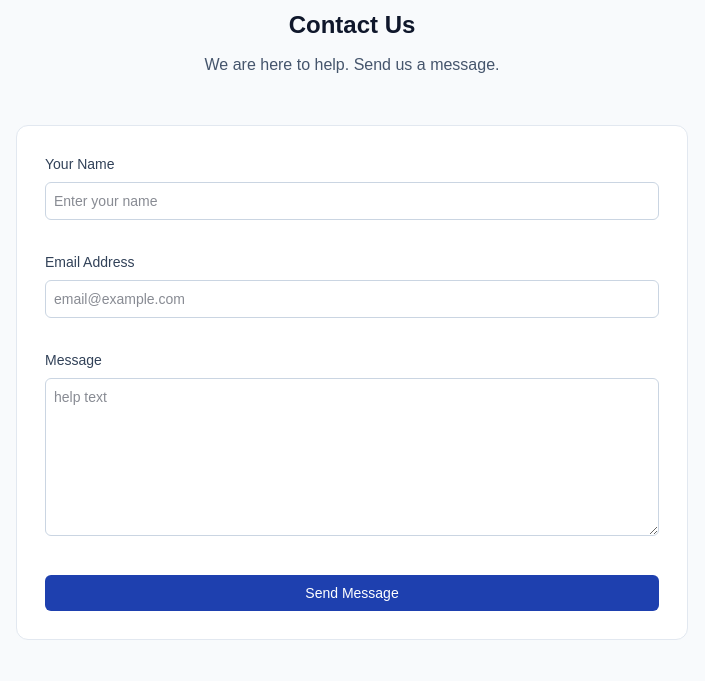
Test: contact page- tests › invalid form msg error- test
The width and height of the screenshot is (705, 681).
Type "Sakshi" into the field with placeholder "Enter your name" at [352, 201], box [45, 182, 659, 220]
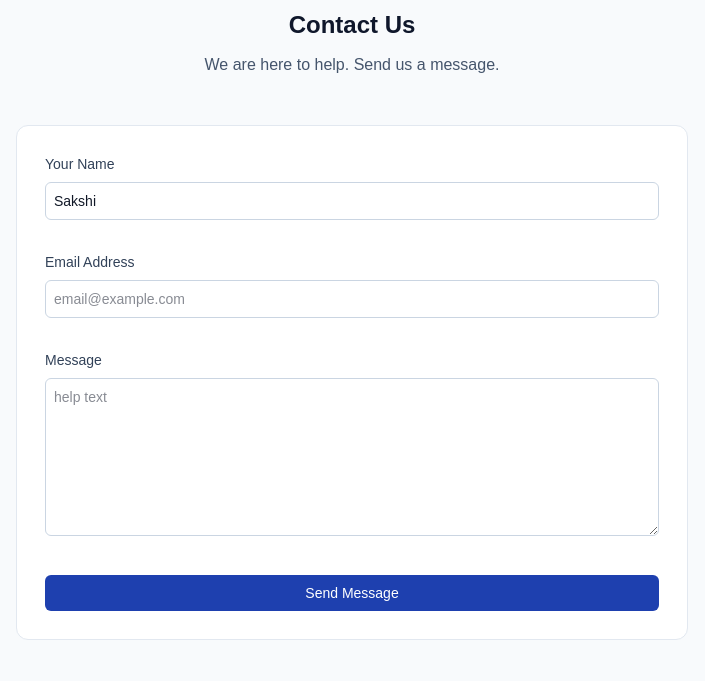
Type "abc12@gmail.com" into the field with placeholder "email@example.com" at [352, 299], box [45, 280, 659, 318]
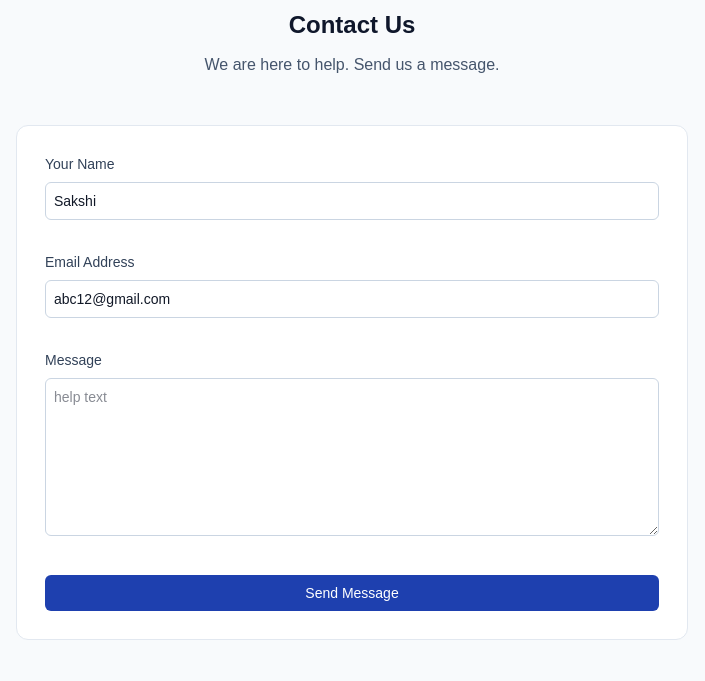
Type "short msg" into the text box with placeholder "help text" at [352, 457], box [45, 378, 659, 536]
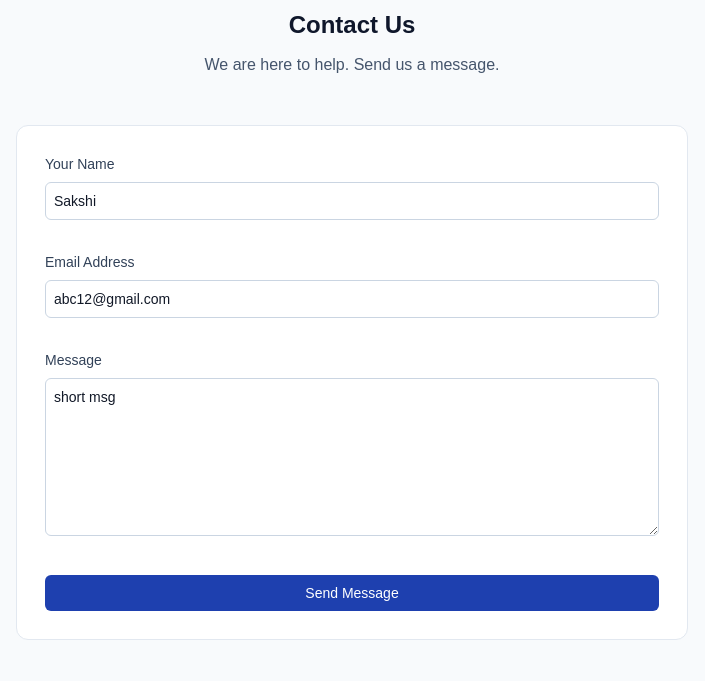
Click the button "Send Message" at [352, 593], box [45, 575, 659, 611]
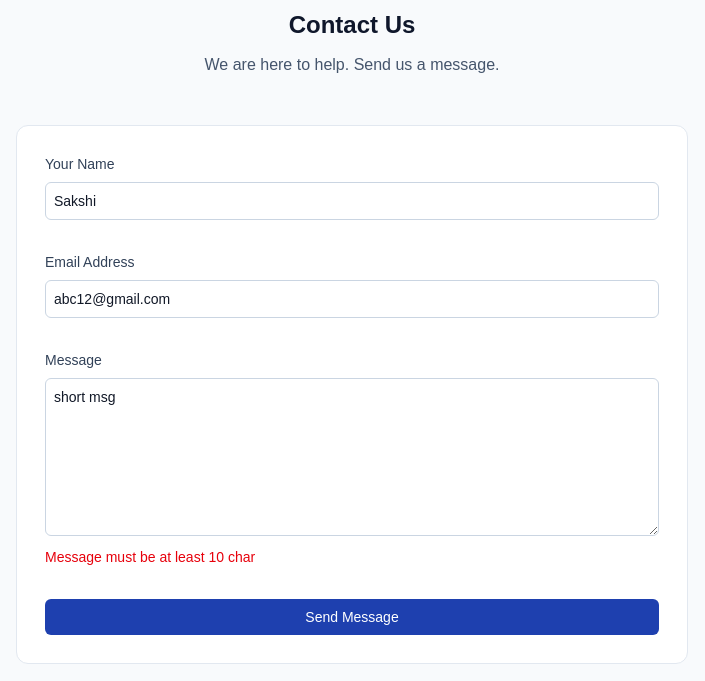
Expected: the text "Message must be at least 10 char" is shown, [45, 549, 255, 565]
